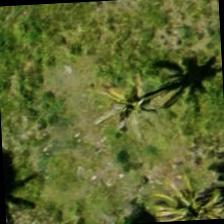Kelapa_Sawit: (83, 48, 178, 142), (141, 163, 223, 222)
